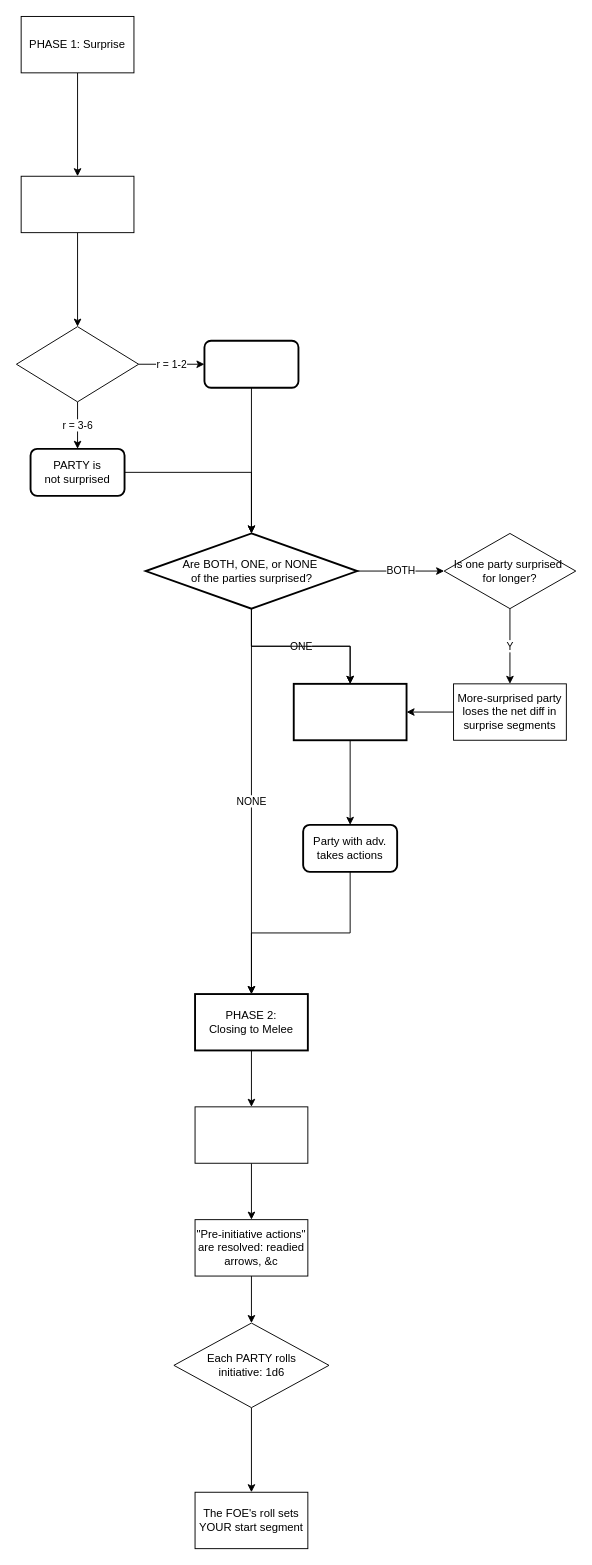
This 592x1565 diagram has some shape labels left out. The box of each missing label's shape, as (x1, y1, x2, y2) in pixels:
each PARTY rolls 1d6: (16, 326, 139, 402)
Find qty of Surprise segments: (20, 175, 134, 233)
PARTY is surprised for r segments: (203, 339, 299, 388)
PLAYERS declare intentions: "cast a spell", "attack in melee", "try to flank": (194, 1106, 308, 1163)
Surprised party is inactive for the surprise segments: (292, 682, 407, 741)
